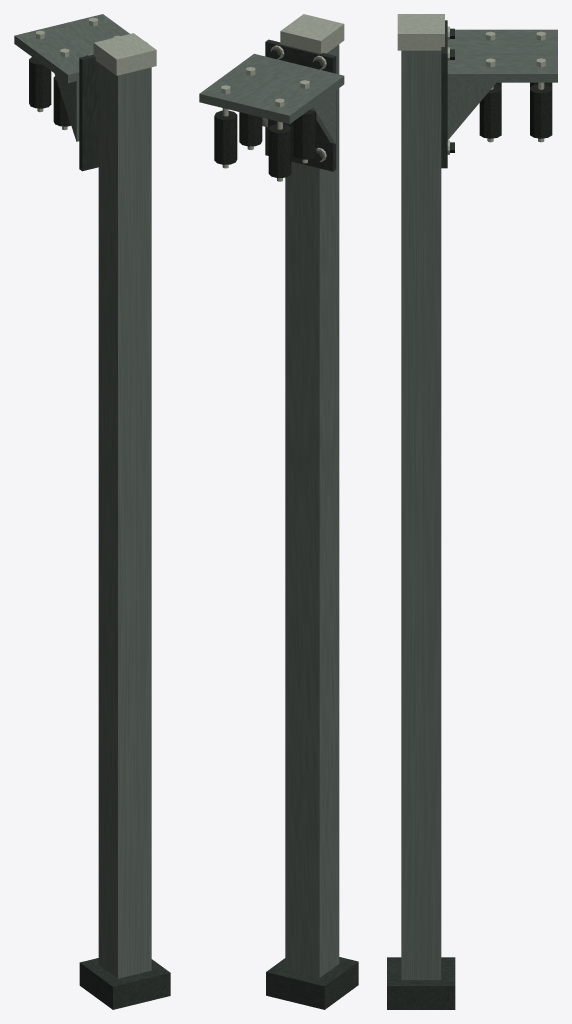
Rendered from SG_Post.glb.
The picture shows the model from 3 angles, left to right: view 1: azimuth 30°, elevation 25°; view 2: azimuth 150°, elevation 25°; view 3: azimuth 270°, elevation 25°; orthographic projection. The views are drawn at different scales.
Visible parts, largest first — view 1: SG_Post_Left; view 2: SG_Post_Left; view 3: SG_Post_Left.
Part boxes in pixels (x1,y1,x2,y2): SG_Post_Left: [14, 14, 170, 1009]; SG_Post_Left: [199, 14, 358, 1009]; SG_Post_Left: [387, 14, 557, 1009].
Size of the model in its own units: 0.2 by 2.04 by 0.325.
Materials: 1 (1 with a texture image).
